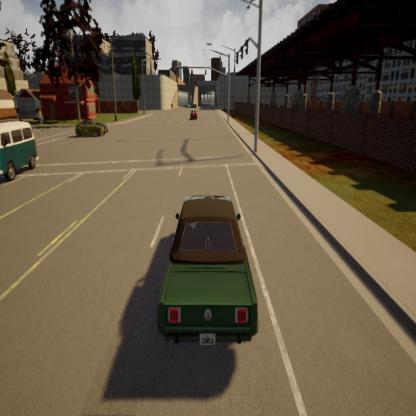Cars: (152, 174, 266, 371), (0, 117, 41, 190), (74, 112, 110, 141), (190, 108, 198, 122), (185, 100, 190, 109)
